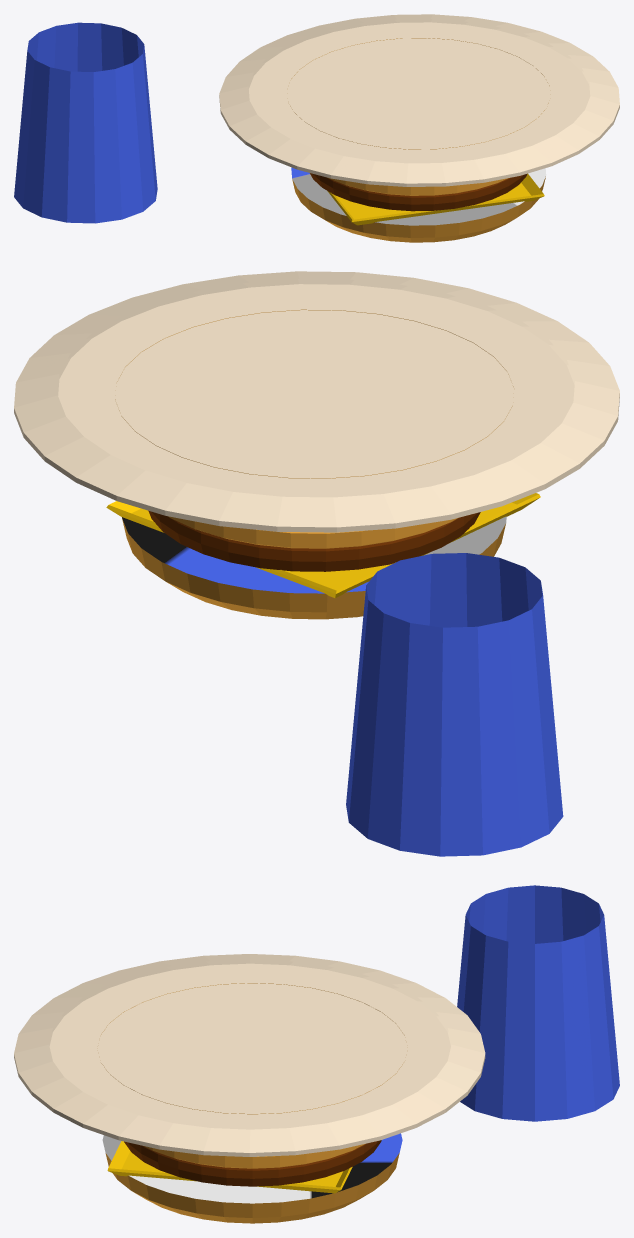
The model's file is Burger.fbx.
3 renders of one model, top to bottom at view 1: azimuth 30°, elevation 25°; view 2: azimuth 150°, elevation 25°; view 3: azimuth 270°, elevation 25°, orthographic. The views are drawn at different scales.
Parts seen in each view (by area): view 1: Cube; view 2: Cube; view 3: Cube.
Part boxes in pixels (box(x1,y1,x2,y2)): Cube: box(14, 14, 619, 242); Cube: box(14, 271, 619, 856); Cube: box(14, 885, 619, 1223).
Size of the model in its own units: 303 by 93.83 by 301.
